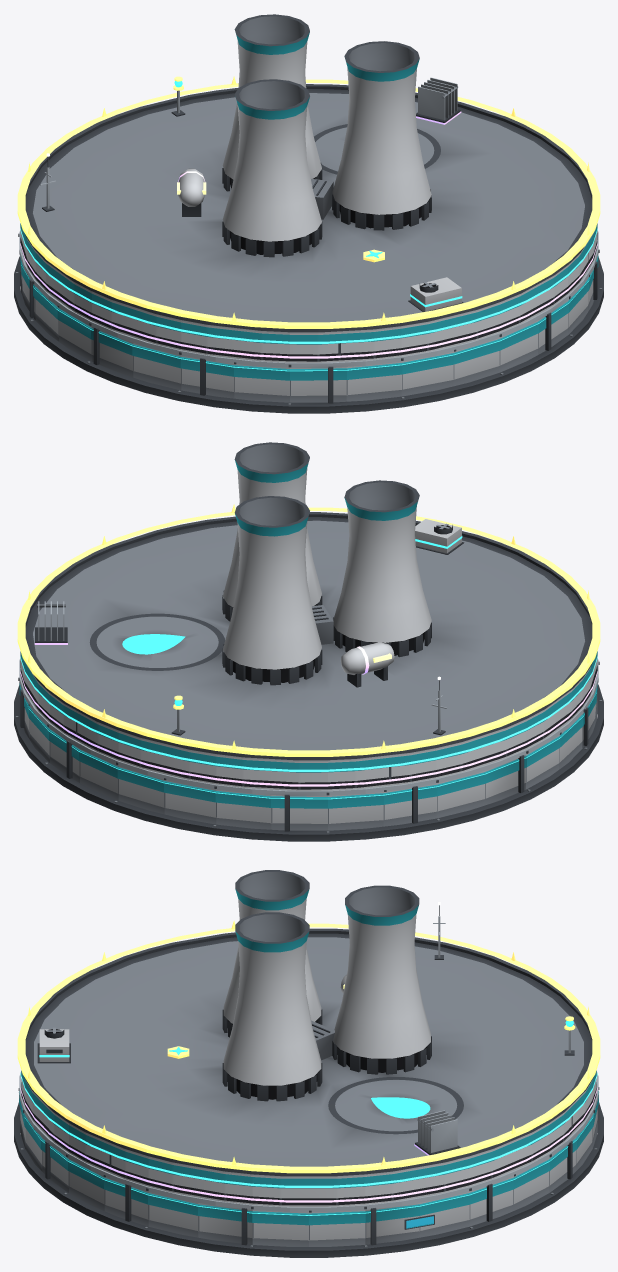
File: atmo_processor_l.glb
3 views of the same model, one above another, from view 1: azimuth 30°, elevation 25°; view 2: azimuth 150°, elevation 25°; view 3: azimuth 270°, elevation 25° (orthographic).
Visible parts, largest first — view 1: Roof, Base, L4, Wall_21, Wall_20, Wall_22, Wall_19, Wall_23, Wall_18, Wall_24, Upper_20, Upper_22 (+19 smaller); view 2: Roof, Base, L4, Wall_10, Wall_09, Wall_11, Wall_12, Wall_08, Wall_13, Wall_07, Upper_10, Upper_09 (+20 smaller); view 3: Roof, Base, Wall_00, Wall_31, Wall_30, Wall_01, Wall_29, Wall_02, L4, Wall_28, Wall_03, Upper_00 (+23 smaller).
Boxes of the visible parts, x1,y1,x2,y2 form: Roof: (25,14,592,332); Base: (14,256,603,413); L4: (177,77,461,216); Wall_21: (290,366,346,403); Wall_20: (234,362,289,402); Wall_22: (346,361,402,401); Wall_19: (180,355,234,398); Wall_23: (401,352,453,396); Wall_18: (132,343,181,390); Wall_24: (453,338,500,386); Upper_20: (234,328,289,362); Upper_22: (346,326,401,361); Roof: (25,442,592,760); Base: (14,684,603,841); L4: (34,601,394,687); Wall_10: (271,794,327,831); Wall_09: (215,789,271,829); Wall_11: (328,792,383,830); Wall_12: (383,783,437,826); Wall_08: (164,778,216,824); Wall_13: (436,771,485,818); Wall_07: (117,766,164,814); Upper_10: (271,759,327,790); Upper_09: (216,754,271,789); Roof: (24,870,593,1176); Base: (14,1102,603,1257); Wall_00: (309,1210,365,1246); Wall_31: (252,1210,308,1246); Wall_30: (198,1203,252,1245); Wall_01: (365,1203,419,1245); Wall_29: (147,1192,198,1237); Wall_02: (419,1192,470,1237); L4: (340,974,460,1155); Wall_28: (103,1175,148,1226); Wall_03: (469,1177,513,1226); Upper_00: (309,1174,365,1206).
Bounding box in the file's own units: 18.96 × 8.22 × 18.96.
